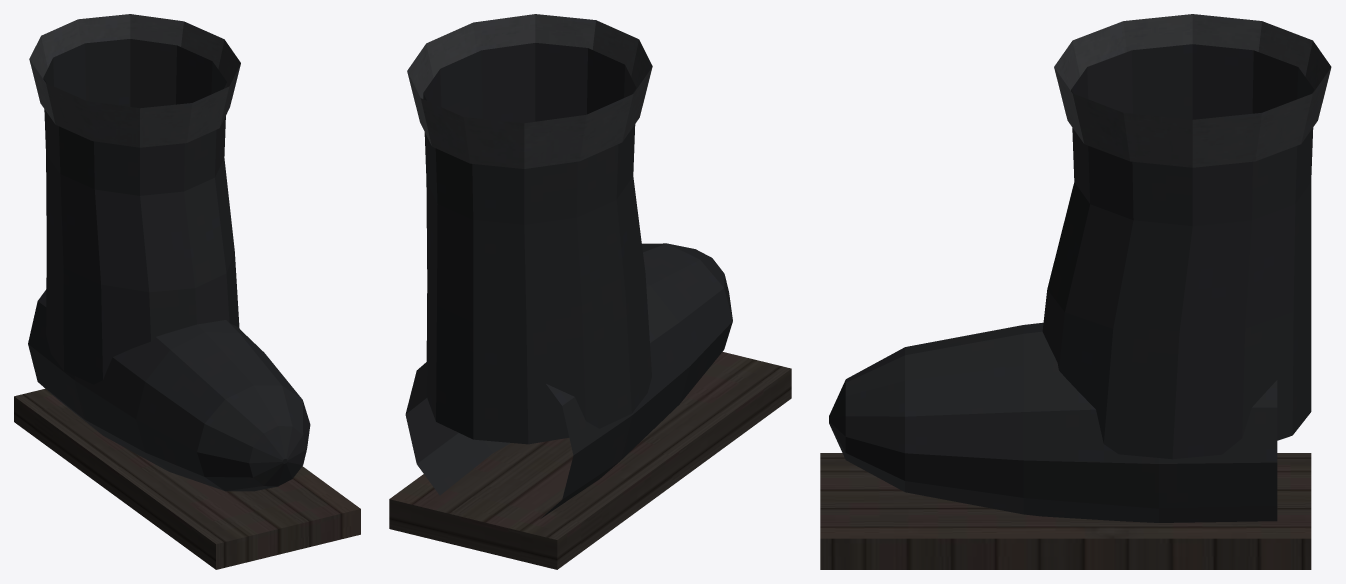
File: eq_present_3_boot.glb
3 renders of one model, left to right at view 1: azimuth 30°, elevation 25°; view 2: azimuth 150°, elevation 25°; view 3: azimuth 270°, elevation 25°, orthographic. The views are drawn at different scales.
Visible parts, largest first — view 1: eq_present_3_boot; view 2: eq_present_3_boot; view 3: eq_present_3_boot.
Boxes of the visible parts, <box> form: eq_present_3_boot: <box>14,14,360,569</box>; eq_present_3_boot: <box>389,14,791,569</box>; eq_present_3_boot: <box>820,14,1331,569</box>.
Size of the model in its own units: 0.1598 by 0.324 by 0.3262.
3 materials, 3 textured.
